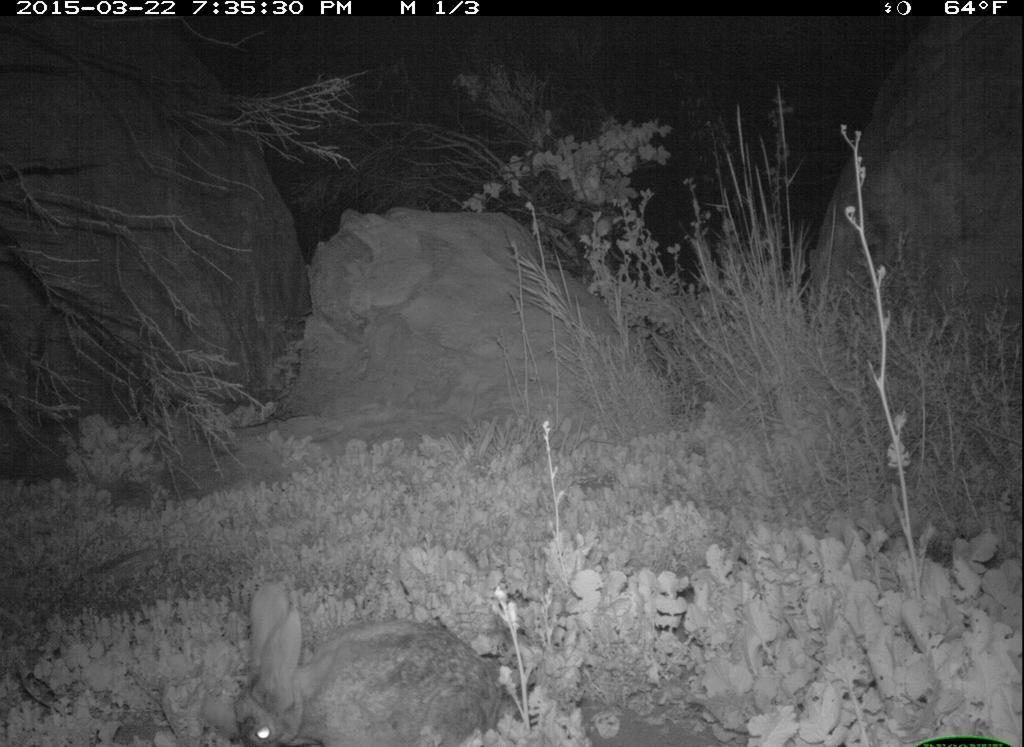rabbit: (231, 582, 501, 747)
